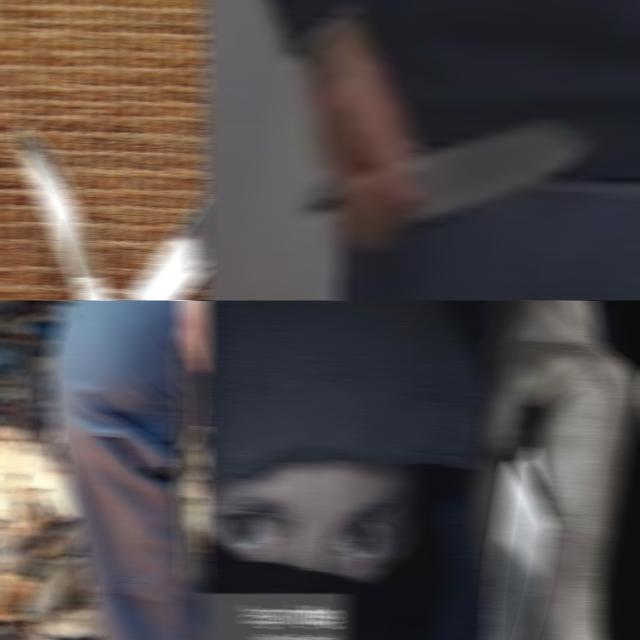Knife: (403, 117, 598, 220), (487, 409, 556, 640)
Knife_Handle: (452, 300, 640, 640), (300, 80, 602, 246)
